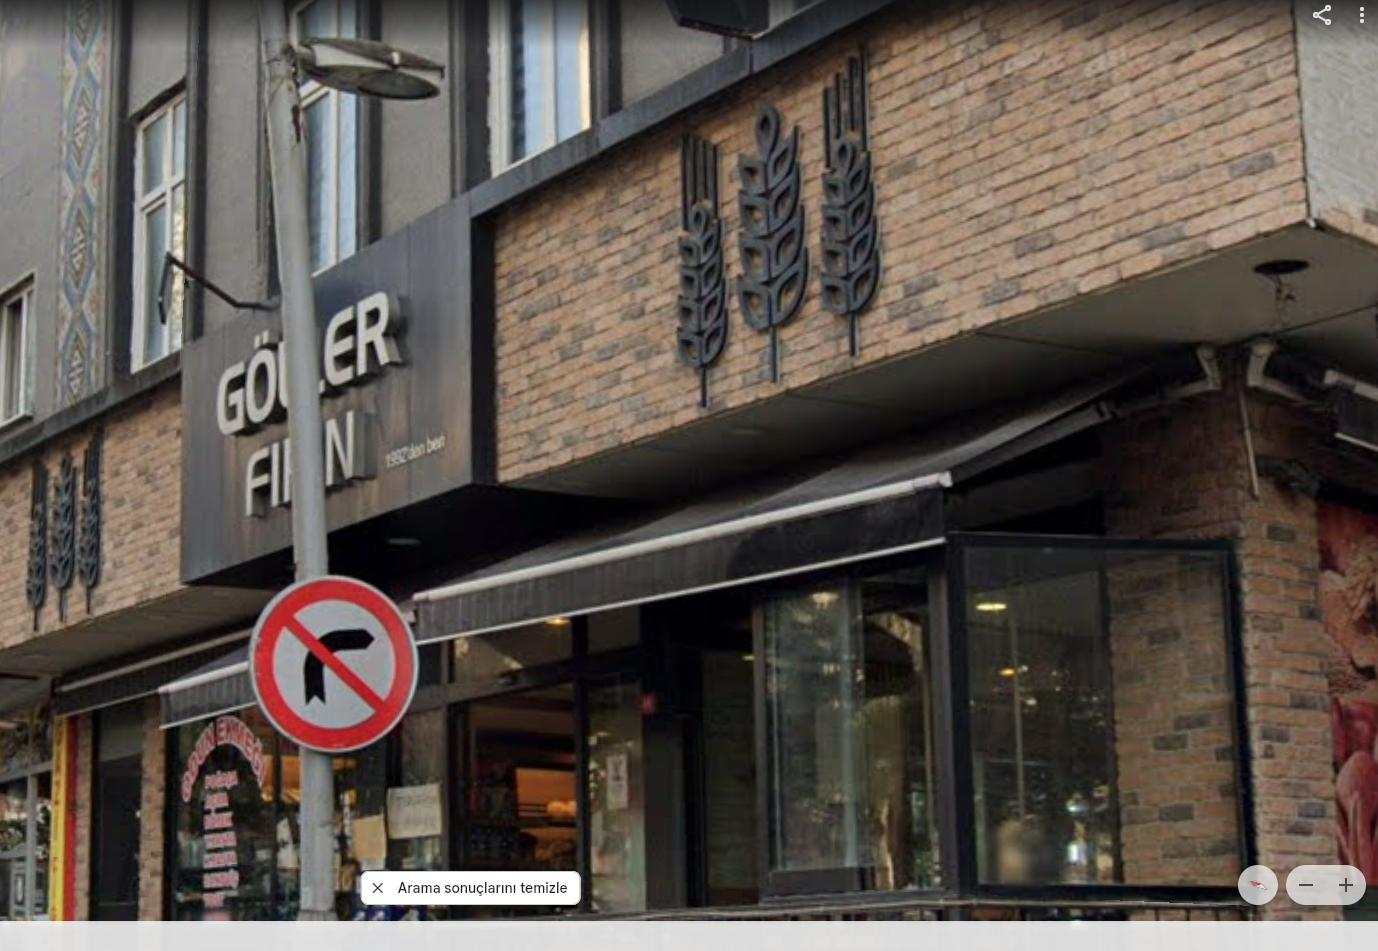rightturnsareforbidden: (259, 575, 406, 745)
